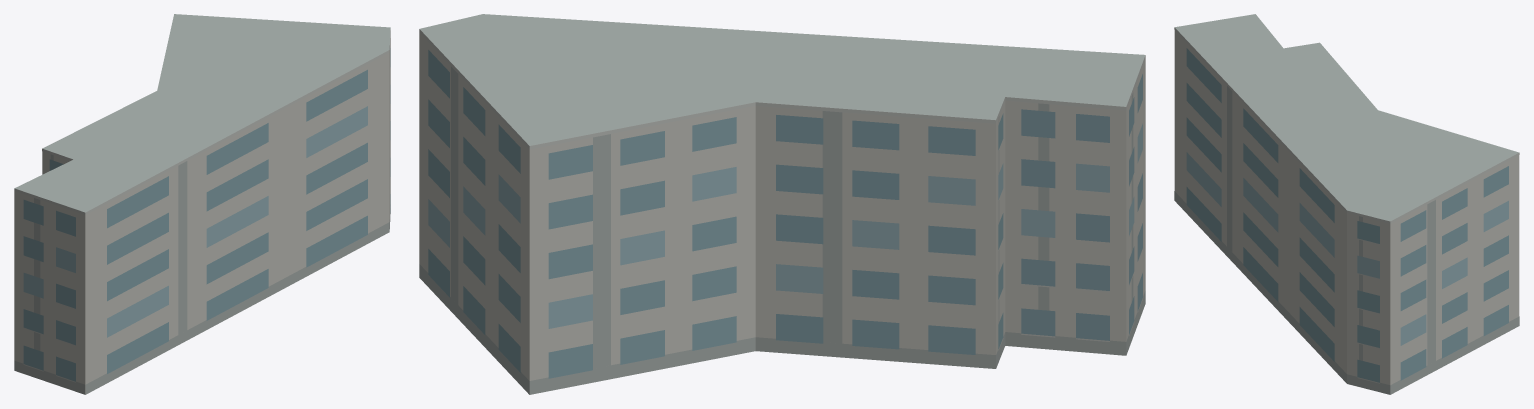
Rendered from survey-upis-32866715.glb.
3 views of the same model, side by side, from view 1: azimuth 30°, elevation 25°; view 2: azimuth 150°, elevation 25°; view 3: azimuth 270°, elevation 25° (orthographic). The views are drawn at different scales.
Parts seen in each view (by area): view 1: survey-upis-32866715.tmp; view 2: survey-upis-32866715.tmp; view 3: survey-upis-32866715.tmp.
Boxes of the visible parts, x1=… form: survey-upis-32866715.tmp: x1=14, y1=14, x2=390, y2=394; survey-upis-32866715.tmp: x1=419, y1=14, x2=1145, y2=394; survey-upis-32866715.tmp: x1=1174, y1=14, x2=1519, y2=394.
Bounding box in the file's own units: 42.35 × 16.5 × 29.75.
